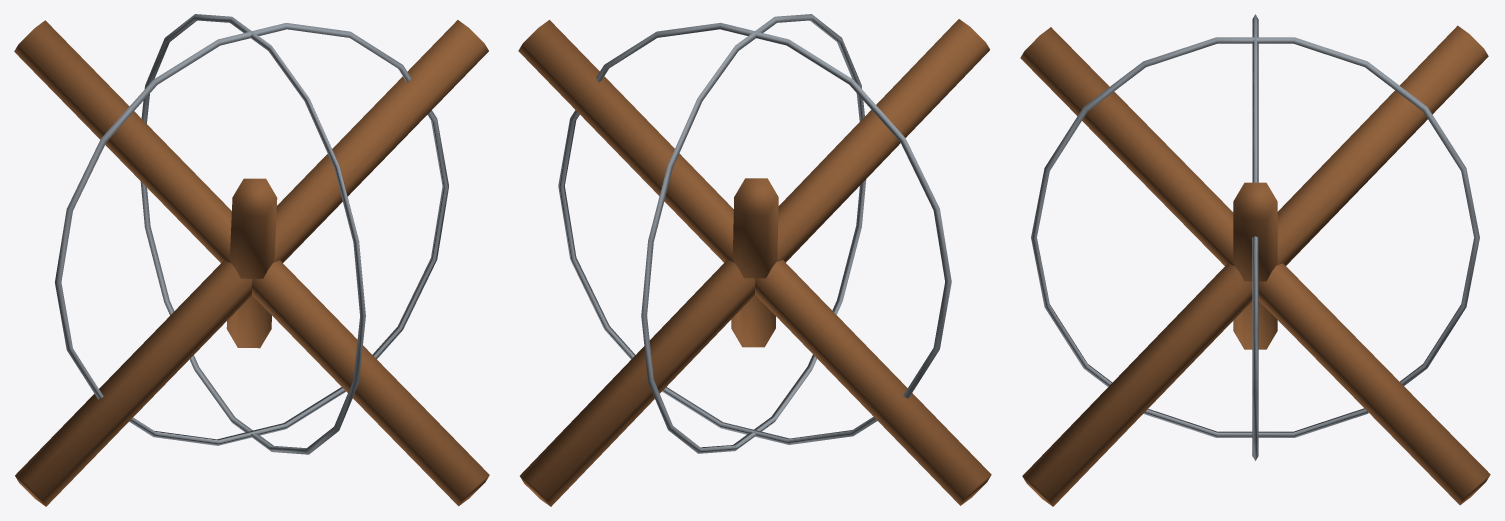
Rendered from prop_barikade.glb.
3 views of the same model, side by side, from view 1: azimuth 30°, elevation 25°; view 2: azimuth 150°, elevation 25°; view 3: azimuth 270°, elevation 25° (orthographic).
Visible parts, largest first — view 1: barikade; view 2: barikade; view 3: barikade.
Part boxes in pixels (bbox=[...]): barikade: bbox=[14, 14, 489, 506]; barikade: bbox=[518, 14, 991, 506]; barikade: bbox=[1020, 14, 1490, 506].
Size of the model in its own units: 1.67 by 1.45 by 1.49.
